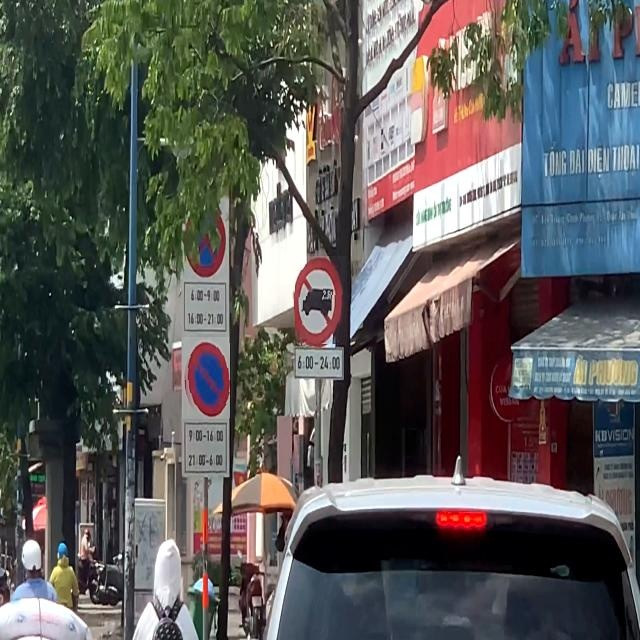bien_cam: (295, 256, 347, 346), (182, 337, 230, 419)
